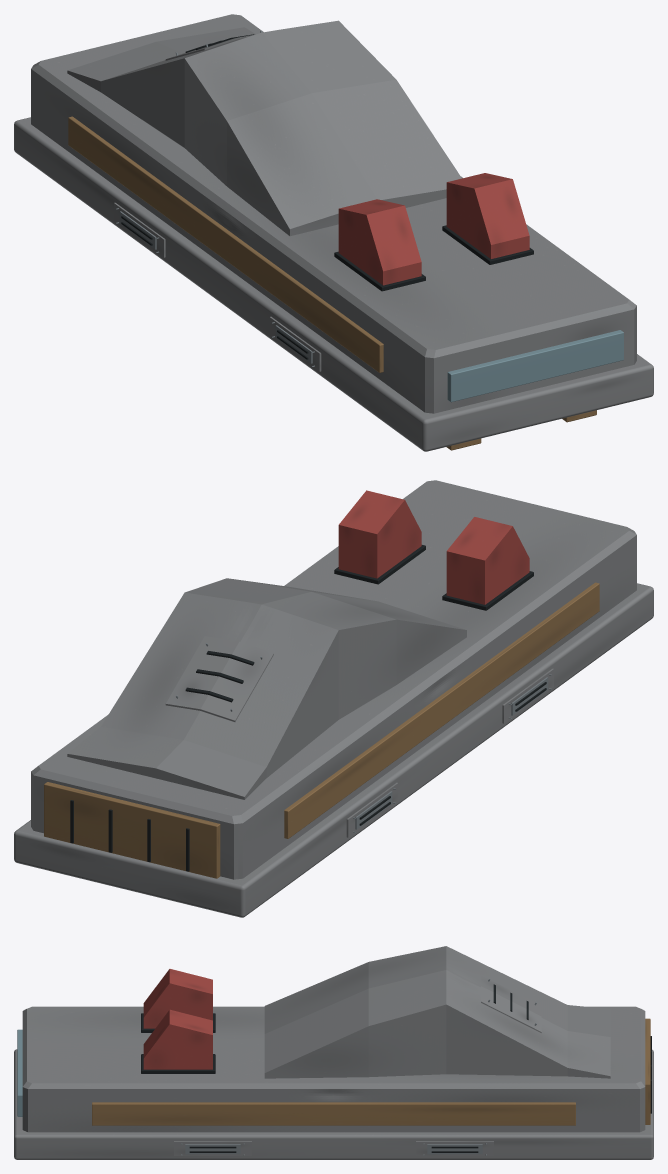
The picture shows the model from 3 angles, top to bottom: view 1: azimuth 30°, elevation 25°; view 2: azimuth 150°, elevation 25°; view 3: azimuth 270°, elevation 25°; orthographic projection. The views are drawn at different scales.
Parts seen in each view (by area): view 1: Type 6 main hull, Type 6 sloped upper roof, Type 6 lower base, Type 6 brown side band -1, Type 6 pale fore panel, Type 6 red raised piece -1, Type 6 red raised piece 1, Type 6 red mount -1, Type 6 red mount 1; view 2: Type 6 main hull, Type 6 sloped upper roof, Type 6 lower base, Type 6 brown side band -1, Type 6 brown rear panel, Type 6 red raised piece 1, Type 6 red raised piece -1, Type 6 roof hatch, Type 6 red mount -1, Type 6 red mount 1; view 3: Type 6 main hull, Type 6 sloped upper roof, Type 6 lower base, Type 6 brown side band 1, Type 6 red raised piece 1, Type 6 red raised piece -1, Type 6 roof hatch, Type 6 base service frame 1 0, Type 6 base service frame 1 1, Type 6 brown rear panel, Type 6 pale fore panel, Type 6 base grey inset 1 0 (+2 smaller).
Part boxes in pixels (left/top/right/bottom): Type 6 main hull: left=31, top=14, right=636, bottom=413; Type 6 sloped upper roof: left=67, top=20, right=461, bottom=236; Type 6 lower base: left=14, top=117, right=653, bottom=451; Type 6 brown side band -1: left=68, top=116, right=383, bottom=372; Type 6 pale fore panel: left=447, top=330, right=623, bottom=402; Type 6 red raised piece -1: left=338, top=199, right=421, bottom=285; Type 6 red raised piece 1: left=446, top=173, right=529, bottom=258; Type 6 red mount -1: left=334, top=251, right=425, bottom=291; Type 6 red mount 1: left=442, top=225, right=533, bottom=264; Type 6 main hull: left=31, top=480, right=636, bottom=879; Type 6 sloped upper roof: left=67, top=578, right=466, bottom=799; Type 6 lower base: left=14, top=583, right=653, bottom=917; Type 6 brown side band -1: left=284, top=582, right=599, bottom=838; Type 6 brown rear panel: left=44, top=782, right=220, bottom=878; Type 6 red raised piece 1: left=338, top=490, right=421, bottom=578; Type 6 red raised piece -1: left=446, top=517, right=529, bottom=604; Type 6 roof hatch: left=165, top=636, right=273, bottom=721; Type 6 red mount -1: left=442, top=571, right=533, bottom=610; Type 6 red mount 1: left=334, top=545, right=425, bottom=584; Type 6 main hull: left=22, top=1006, right=645, bottom=1132; Type 6 sloped upper roof: left=264, top=946, right=610, bottom=1078; Type 6 lower base: left=14, top=1049, right=653, bottom=1159; Type 6 brown side band 1: left=92, top=1102, right=575, bottom=1125; Type 6 red raised piece 1: left=143, top=1009, right=212, bottom=1069; Type 6 red raised piece -1: left=143, top=969, right=212, bottom=1028; Type 6 roof hatch: left=481, top=975, right=541, bottom=1032; Type 6 base service frame 1 0: left=174, top=1141, right=251, bottom=1155; Type 6 base service frame 1 1: left=416, top=1141, right=493, bottom=1155; Type 6 brown rear panel: left=645, top=1018, right=650, bottom=1124; Type 6 pale fore panel: left=17, top=1029, right=22, bottom=1116; Type 6 base grey inset 1 0: left=185, top=1144, right=240, bottom=1154.
Bounding box in the file's own units: 1.24 × 1.03 × 3.7.
6 materials, 3 textured.
